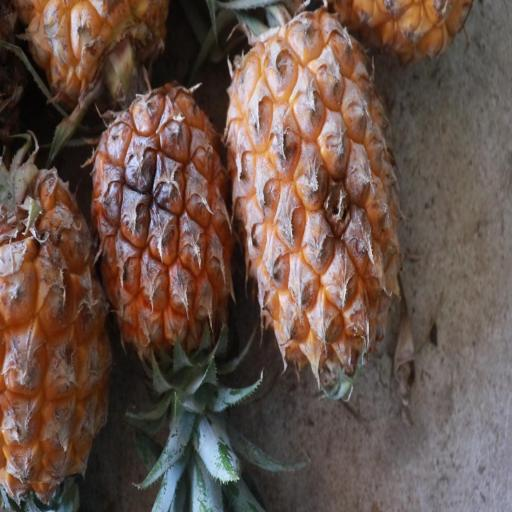Pineapple - v8 v1: (222, 0, 414, 375), (90, 80, 242, 385), (1, 154, 96, 512), (3, 492, 6, 497)
